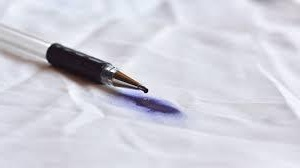ink: (126, 96, 180, 117)
